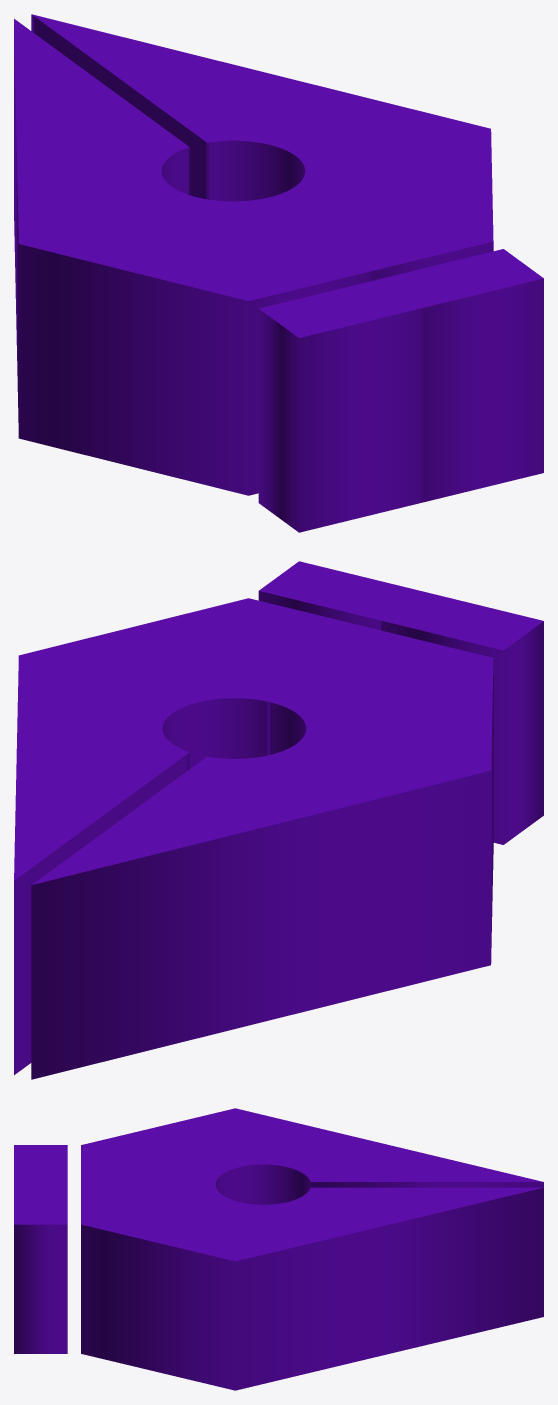
Rendered from pentool.gltf.glb.
The picture shows the model from 3 angles, top to bottom: view 1: azimuth 30°, elevation 25°; view 2: azimuth 150°, elevation 25°; view 3: azimuth 270°, elevation 25°; orthographic projection. The views are drawn at different scales.
Visible parts, largest first — view 1: Curve, Curve.001, Curve.003, Curve.002; view 2: Curve, Curve.001, Curve.003, Curve.002; view 3: Curve.001, Curve, Curve.002, Curve.003.
Part boxes in pixels (x1,y1,x2,y2): Curve: (14,19,370,495); Curve.001: (31,14,493,280); Curve.003: (258,279,421,532); Curve.002: (381,249,543,502); Curve: (31,628,493,1079); Curve.001: (14,598,370,1074); Curve.003: (381,591,543,844); Curve.002: (258,561,420,630); Curve.001: (81,1185,543,1390); Curve: (81,1108,543,1204); Curve.002: (14,1185,67,1353); Curve.003: (14,1145,67,1184).
Size of the model in its own units: 1.56 by 0.6161 by 2.29.
